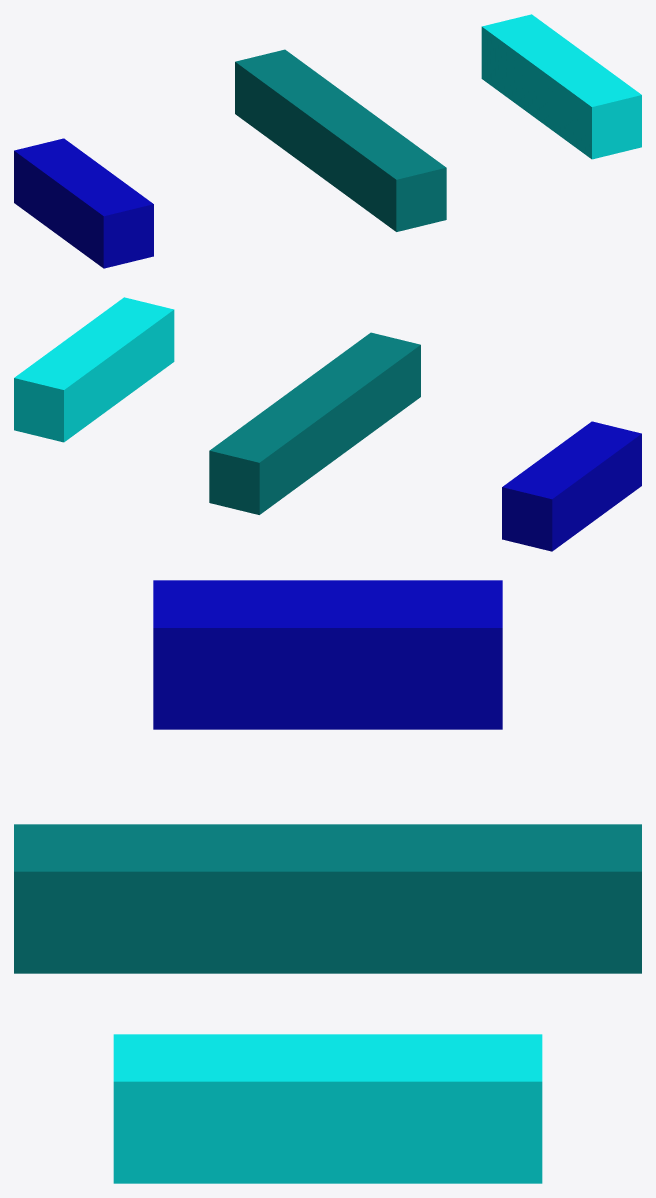
The picture shows the model from 3 angles, top to bottom: view 1: azimuth 30°, elevation 25°; view 2: azimuth 150°, elevation 25°; view 3: azimuth 270°, elevation 25°; orthographic projection. The views are drawn at different scales.
Visible parts, largest first — view 1: Box (×3); view 2: Box (×3); view 3: Box (×3).
Part boxes in pixels (bbox=[...]): Box (×3): bbox=[14, 14, 641, 268]; Box (×3): bbox=[14, 297, 641, 551]; Box (×3): bbox=[14, 580, 641, 1183].
Bounding box in the file's own units: 10.55 × 1 × 5.59.
